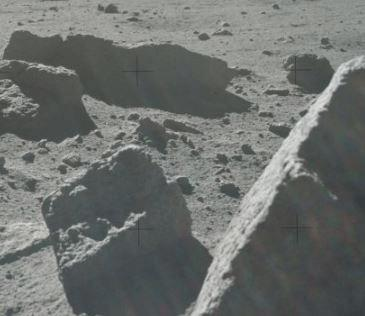rock: (187, 56, 365, 315), (42, 143, 192, 292), (4, 27, 232, 106), (0, 57, 82, 125)
